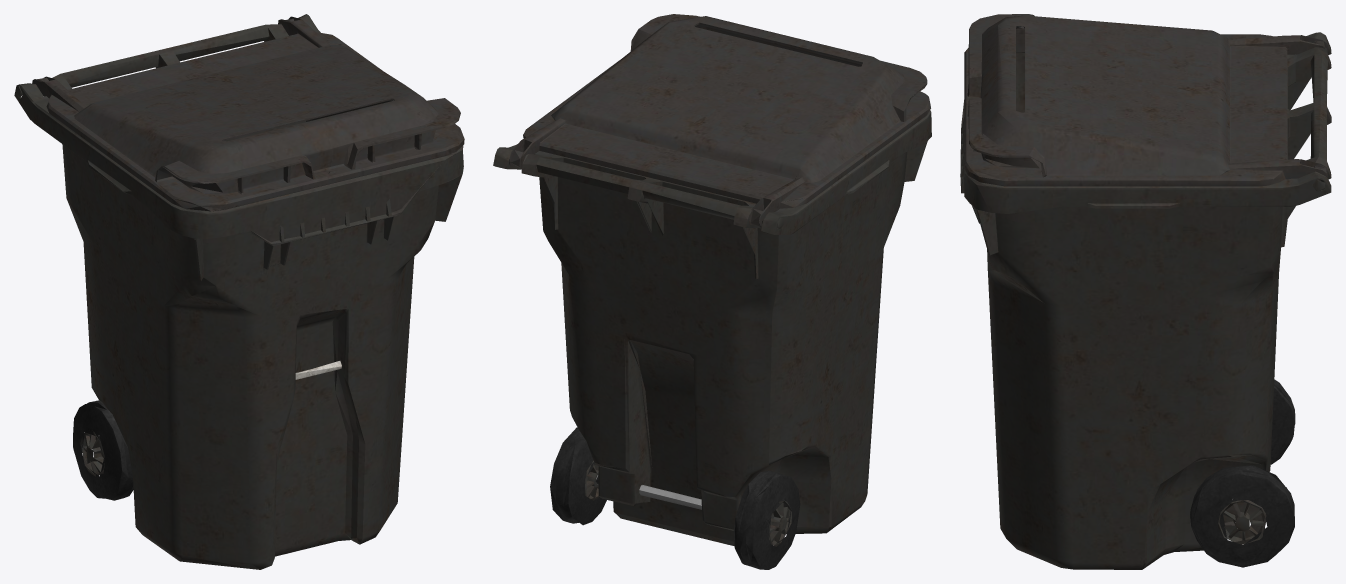
The model's file is metro_wheelie_bin.glb.
3 renders of one model, left to right at view 1: azimuth 30°, elevation 25°; view 2: azimuth 150°, elevation 25°; view 3: azimuth 270°, elevation 25°, orthographic. The views are drawn at different scales.
Parts seen in each view (by area): view 1: metro_wheelie_bin; view 2: metro_wheelie_bin; view 3: metro_wheelie_bin.
Part boxes in pixels (box(x1,y1,x2,y2)): metro_wheelie_bin: box(14, 14, 464, 569); metro_wheelie_bin: box(493, 14, 931, 569); metro_wheelie_bin: box(960, 14, 1331, 569).
Bounding box in the file's own units: 0.8338 × 1.17 × 0.8764.
6 materials, 6 textured.
